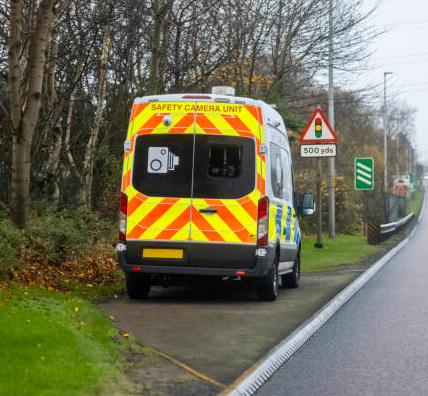vehicle: (117, 86, 316, 300)
